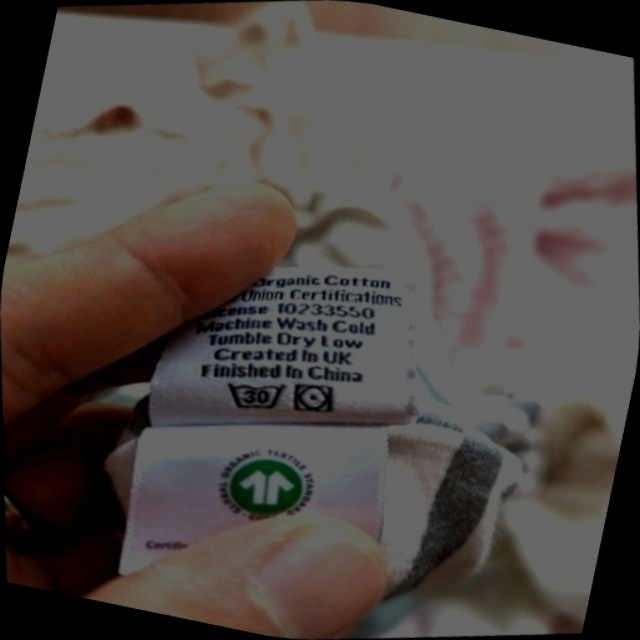30C: (214, 364, 297, 427)
tumble_dry_low: (283, 371, 344, 426)
